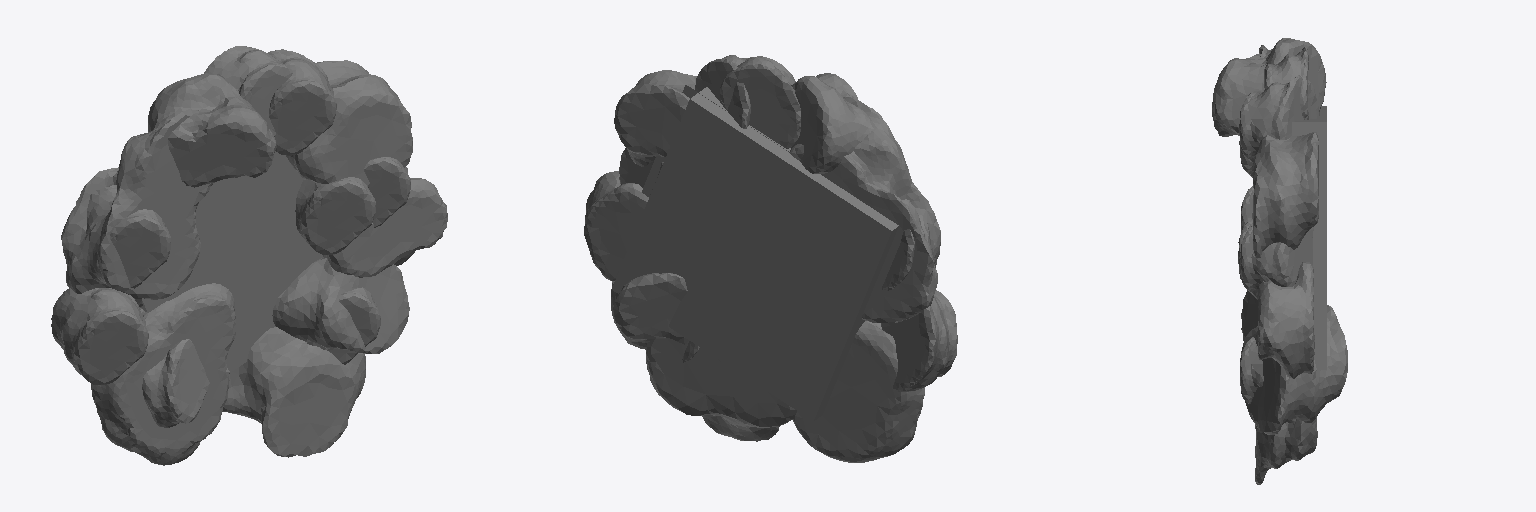
Rendered from rocks2.obj.
The picture shows the model from 3 angles: view 1: azimuth 30°, elevation 25°; view 2: azimuth 150°, elevation 25°; view 3: azimuth 270°, elevation 25°; orthographic projection.
Visible parts, largest first — view 1: Cube, ShortFlatRock_B, ShortFlatRock_A, ShortFlatRock_C, ShortFlatRock_E.001, ShortFlatRock_D, ShortFlatRock_D.001, ShortFlatRock_F.004, ShortFlatRock_E, ShortFlatRock_F.003, ShortFlatRock_F.007, ShortFlatRock_F.002 (+4 smaller); view 2: Cube, ShortFlatRock_B, ShortFlatRock_A, ShortFlatRock_C, ShortFlatRock_E.001, ShortFlatRock_D, ShortFlatRock_F.004, ShortFlatRock_E, ShortFlatRock_F, ShortFlatRock_D.001, ShortFlatRock_F.003, ShortFlatRock_F.006 (+1 smaller); view 3: ShortFlatRock_D, ShortFlatRock_D.001, ShortFlatRock_E, ShortFlatRock_E.001, ShortFlatRock_F.003, Cube, ShortFlatRock_F.005, ShortFlatRock_C, ShortFlatRock_F, ShortFlatRock_F.001, ShortFlatRock_F.002.
Boxes of the visible parts, box(x1,y1,x2,y2) form: Cube: box(140, 151, 323, 372); ShortFlatRock_B: box(61, 109, 212, 306); ShortFlatRock_A: box(91, 283, 235, 465); ShortFlatRock_C: box(222, 327, 365, 457); ShortFlatRock_E.001: box(148, 73, 276, 187); ShortFlatRock_D: box(286, 60, 412, 187); ShortFlatRock_D.001: box(272, 258, 409, 353); ShortFlatRock_F.004: box(51, 288, 148, 384); ShortFlatRock_E: box(323, 178, 447, 277); ShortFlatRock_F.003: box(267, 49, 336, 155); ShortFlatRock_F.007: box(295, 177, 375, 254); ShortFlatRock_F.002: box(142, 339, 209, 427); Cube: box(612, 87, 898, 421); ShortFlatRock_B: box(790, 97, 940, 322); ShortFlatRock_A: box(792, 321, 924, 462); ShortFlatRock_C: box(646, 338, 796, 441); ShortFlatRock_E.001: box(791, 73, 873, 173); ShortFlatRock_D: box(614, 70, 696, 166); ShortFlatRock_F.004: box(881, 290, 957, 391); ShortFlatRock_E: box(584, 171, 648, 281); ShortFlatRock_F: box(720, 56, 800, 148); ShortFlatRock_D.001: box(611, 273, 688, 349); ShortFlatRock_F.003: box(695, 55, 750, 128); ShortFlatRock_F.006: box(882, 199, 935, 290); ShortFlatRock_D: box(1253, 132, 1318, 258); ShortFlatRock_D.001: box(1241, 305, 1347, 434); ShortFlatRock_E: box(1258, 262, 1314, 378); ShortFlatRock_E.001: box(1212, 38, 1326, 136); ShortFlatRock_F.003: box(1239, 75, 1319, 162); Cube: box(1292, 106, 1326, 369); ShortFlatRock_F.005: box(1240, 225, 1313, 299); ShortFlatRock_C: box(1255, 417, 1317, 484); ShortFlatRock_F: box(1264, 47, 1308, 119); ShortFlatRock_F.001: box(1240, 337, 1295, 423); ShortFlatRock_F.002: box(1241, 290, 1257, 340).
Size of the model in its own units: 0.1253 by 0.1304 by 0.0399.